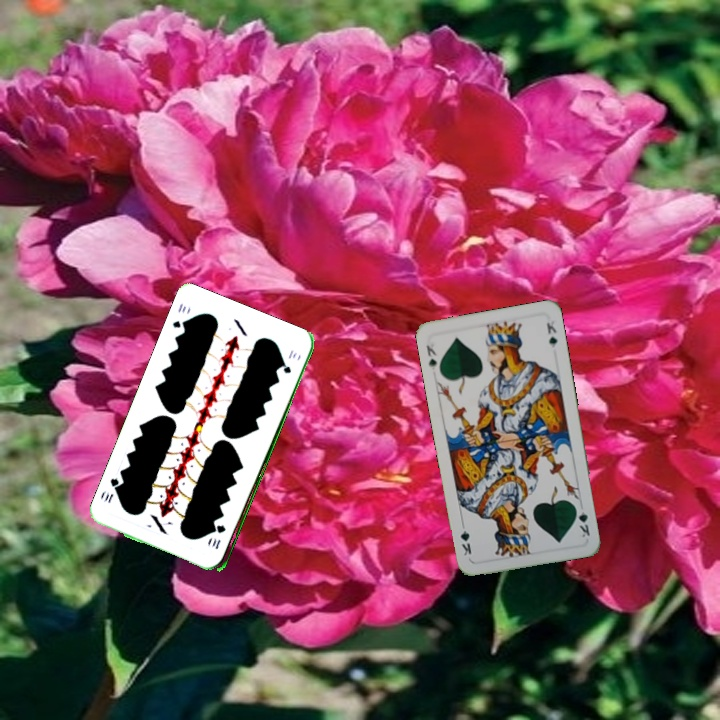G10: (168, 300, 190, 332), (208, 521, 228, 552)
GK: (571, 501, 592, 540), (422, 341, 439, 372)
